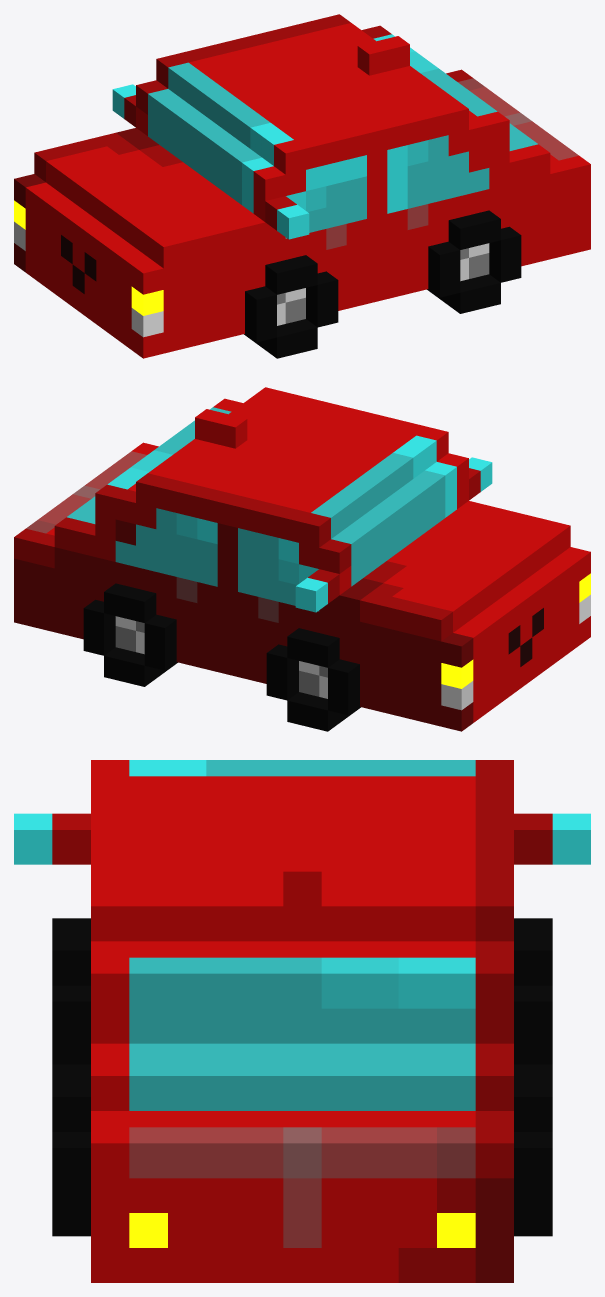
The model's file is Car.gltf.
The picture shows the model from 3 angles, top to bottom: view 1: azimuth 30°, elevation 25°; view 2: azimuth 150°, elevation 25°; view 3: azimuth 270°, elevation 25°; orthographic projection. The views are drawn at different scales.
Size of the model in its own units: 22 by 10 by 15.
2 materials, 2 textured.
